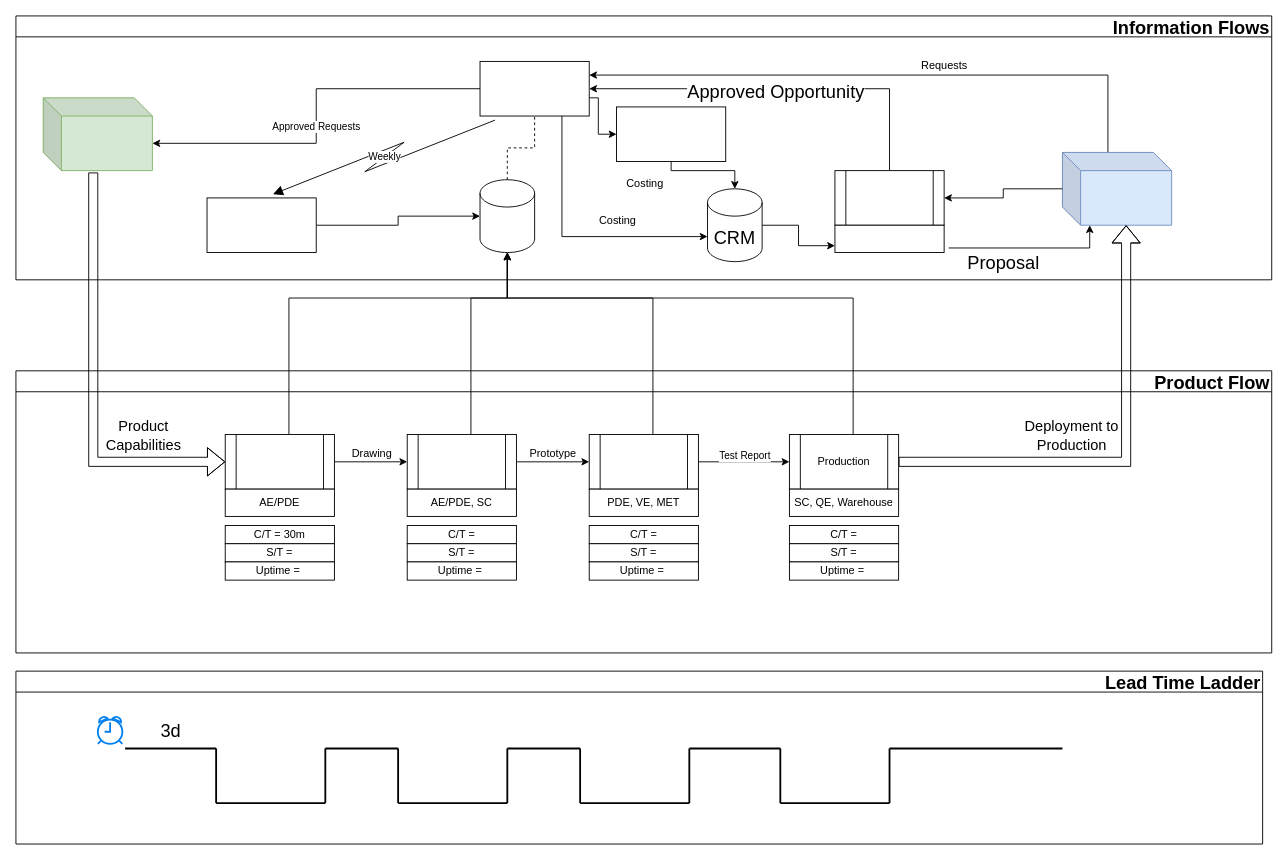
Image size: 1288x860. Some labels were removed from this diagram. The shapes that lost their labels are listed below. From the top down, each one's centre as x and y in pixels, then its label:
(x=534, y=88): Project Manager
(x=97, y=134): Supplier
(x=671, y=134): Supply Chain
(x=889, y=197): BDM Qualification
(x=1117, y=188): Customer
(x=261, y=225): Gantt Chart Budget Mgmt update
(x=507, y=216): PDM
(x=889, y=238): BDM
(x=279, y=461): Design
(x=461, y=461): Develop
(x=643, y=461): Test
